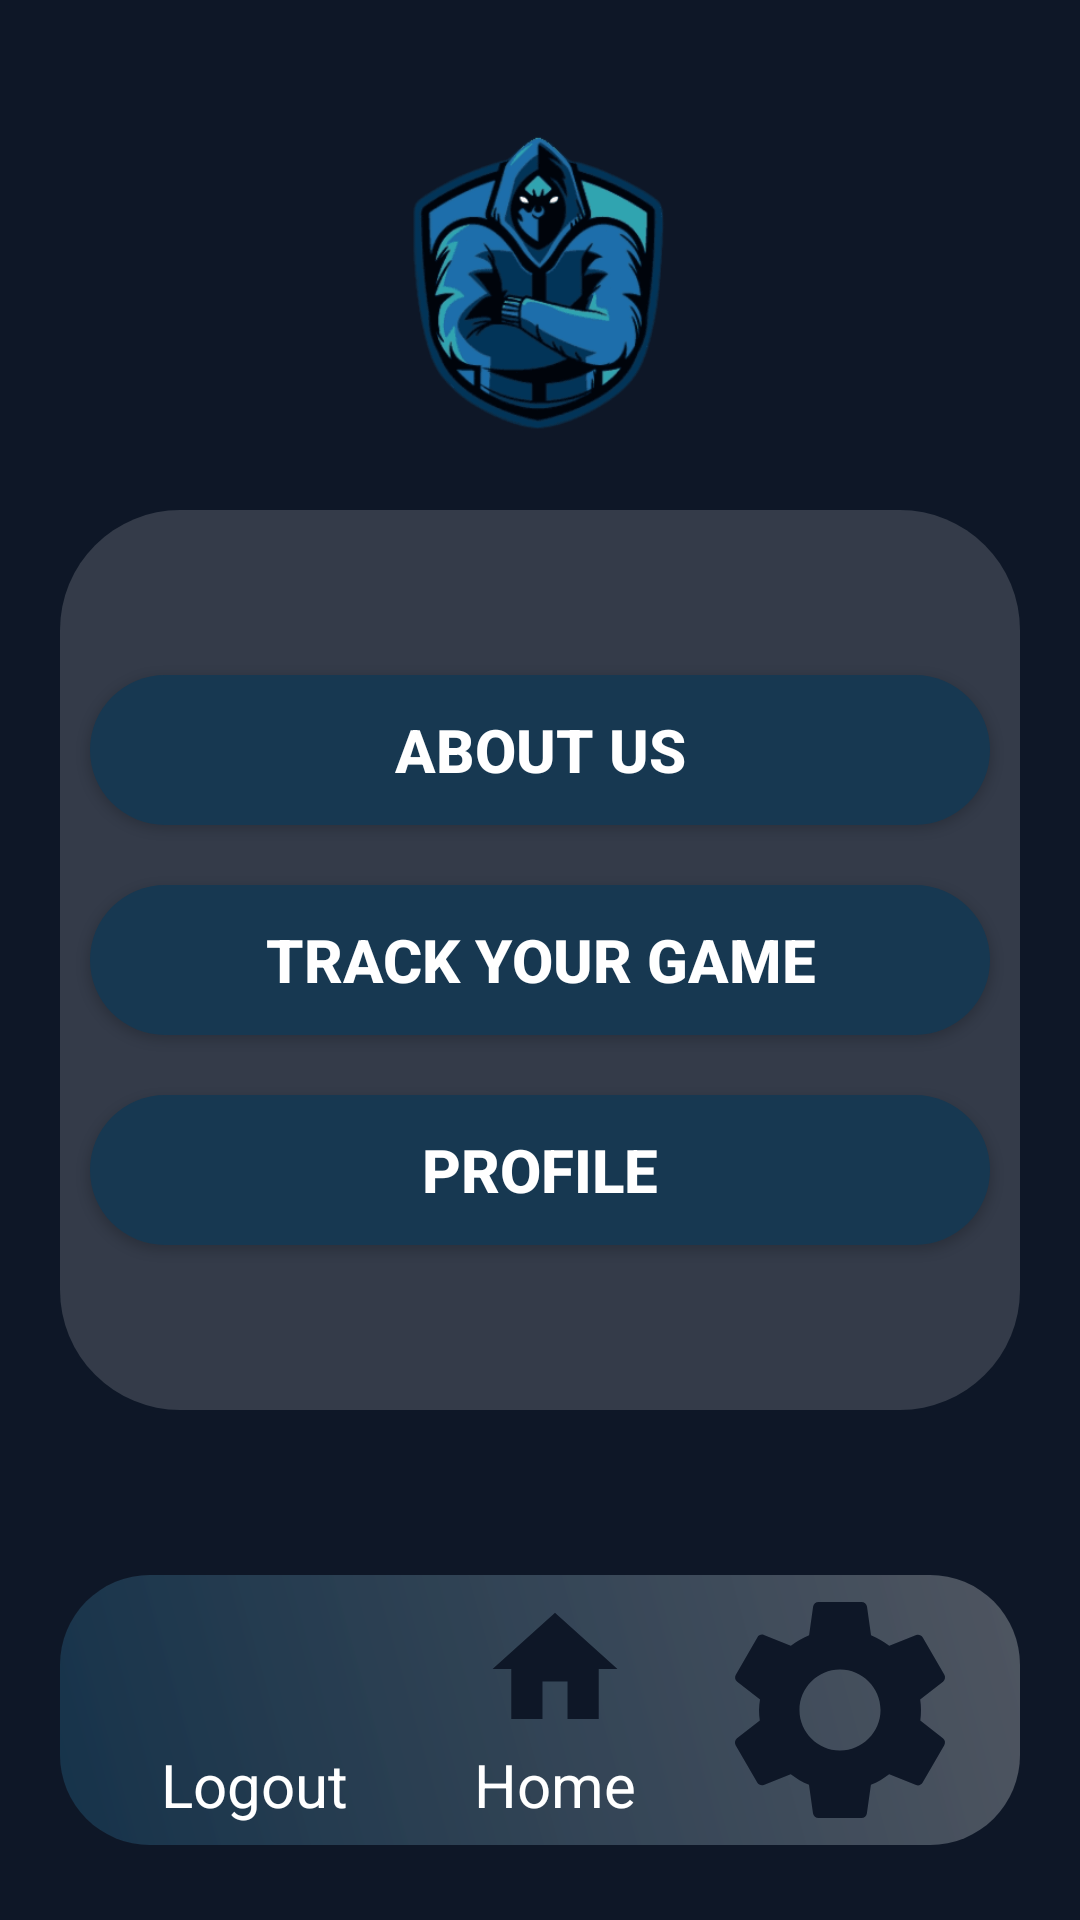

Screen size 1080px×1920px. Icon name, then its center in pixels as point (x, y):
settings: point (840, 1710)
